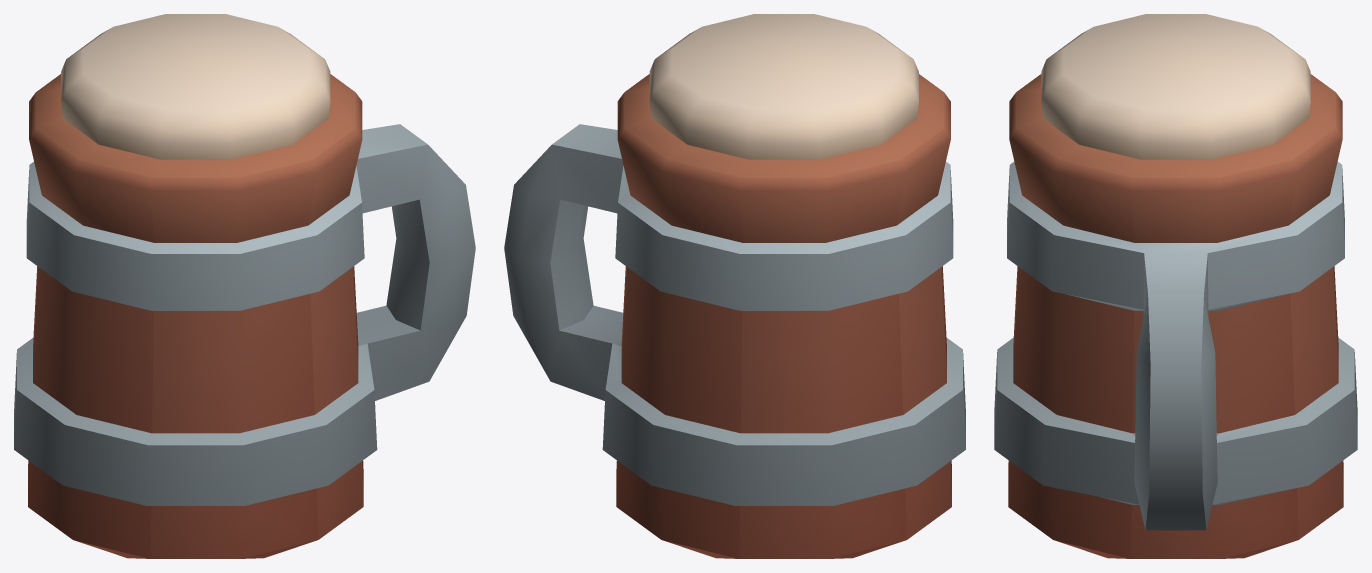
The model's file is mug_full.glb.
3 views of the same model, side by side, from view 1: azimuth 30°, elevation 25°; view 2: azimuth 150°, elevation 25°; view 3: azimuth 270°, elevation 25° (orthographic).
Parts seen in each view (by area): view 1: mug_full; view 2: mug_full; view 3: mug_full.
Boxes of the visible parts, x1,y1,x2,y2 form: mug_full: (14,14,475,558); mug_full: (504,14,965,558); mug_full: (994,14,1357,558).
Size of the model in its own units: 0.5342 by 0.5484 by 0.396.
1 material, 1 textured.
